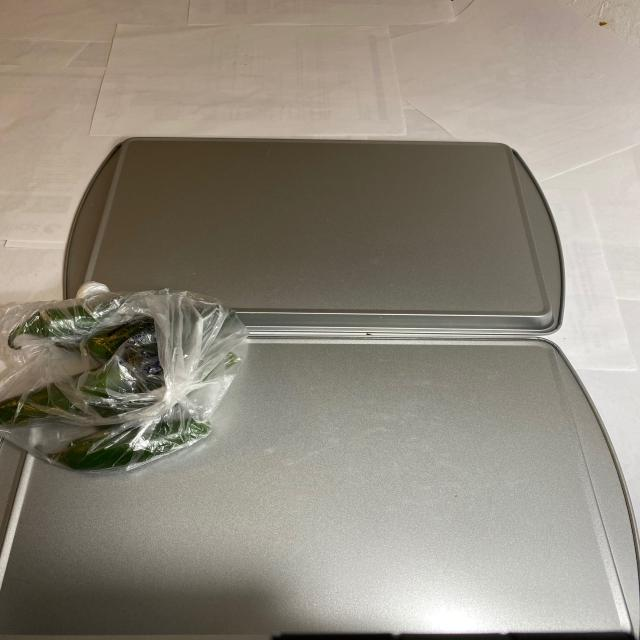chilli: (6, 298, 246, 466)
